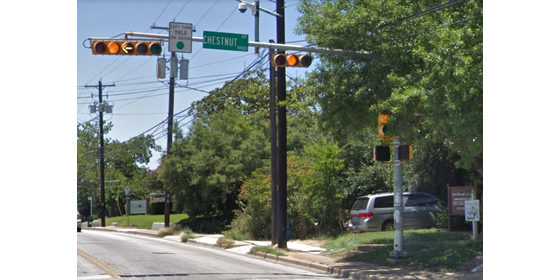left turn yield on green sign: (168, 18, 193, 57)
street name sign: (202, 28, 251, 53)
